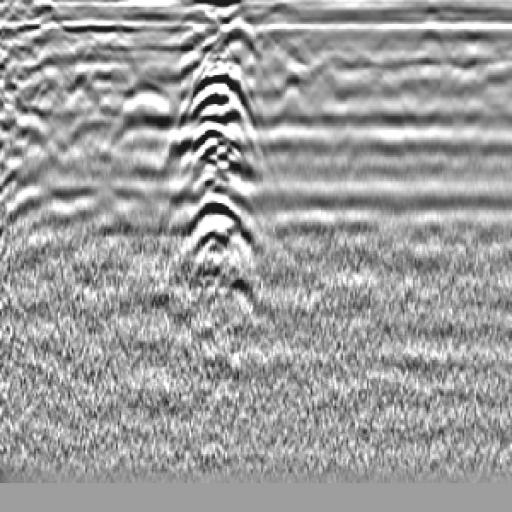metalic: (176, 32, 260, 312)
nonmetalic: (104, 78, 192, 156)
